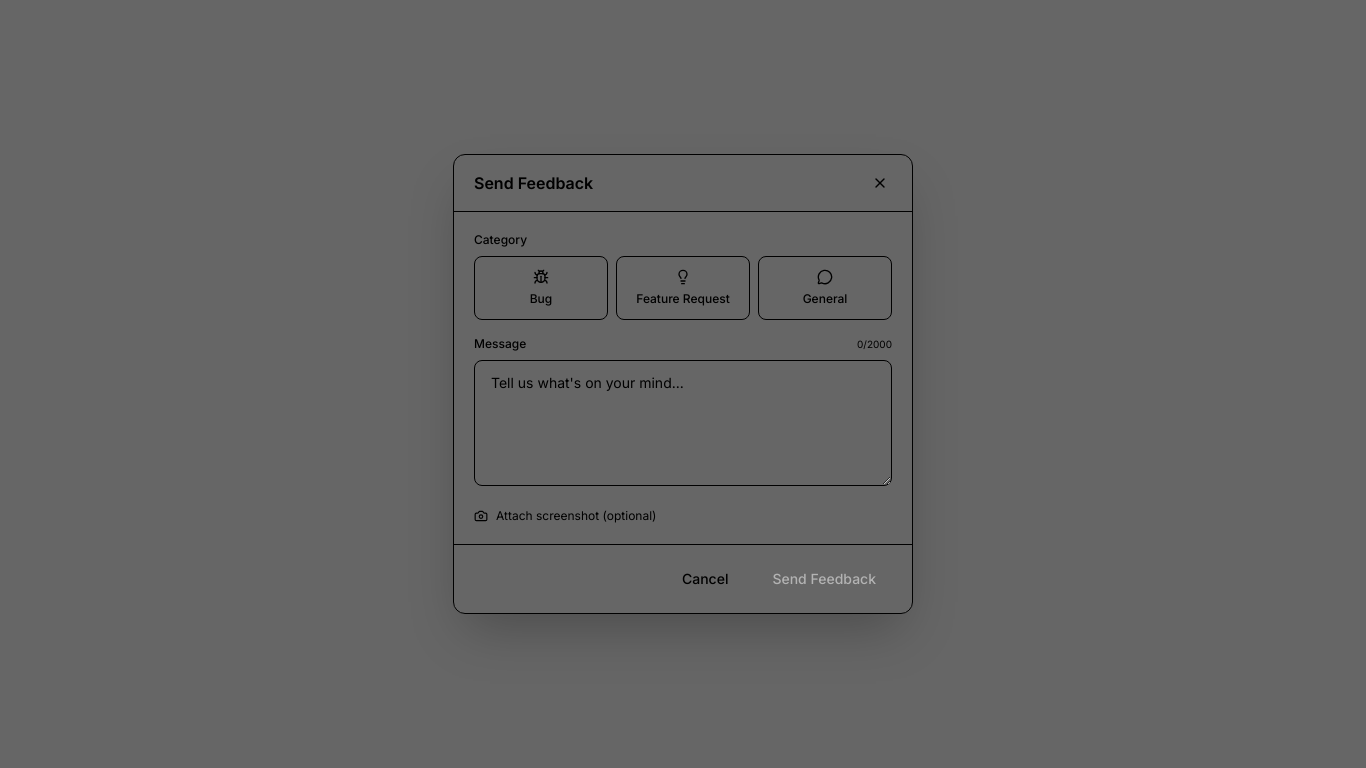
Test: FeedbackModal › enables Send button when message >= 10 chars
The width and height of the screenshot is (1366, 768).
Type "This is a valid feedback message" into the text box with placeholder "Tell us what's on your mind..." at (683, 423), box [474,360,892,486]
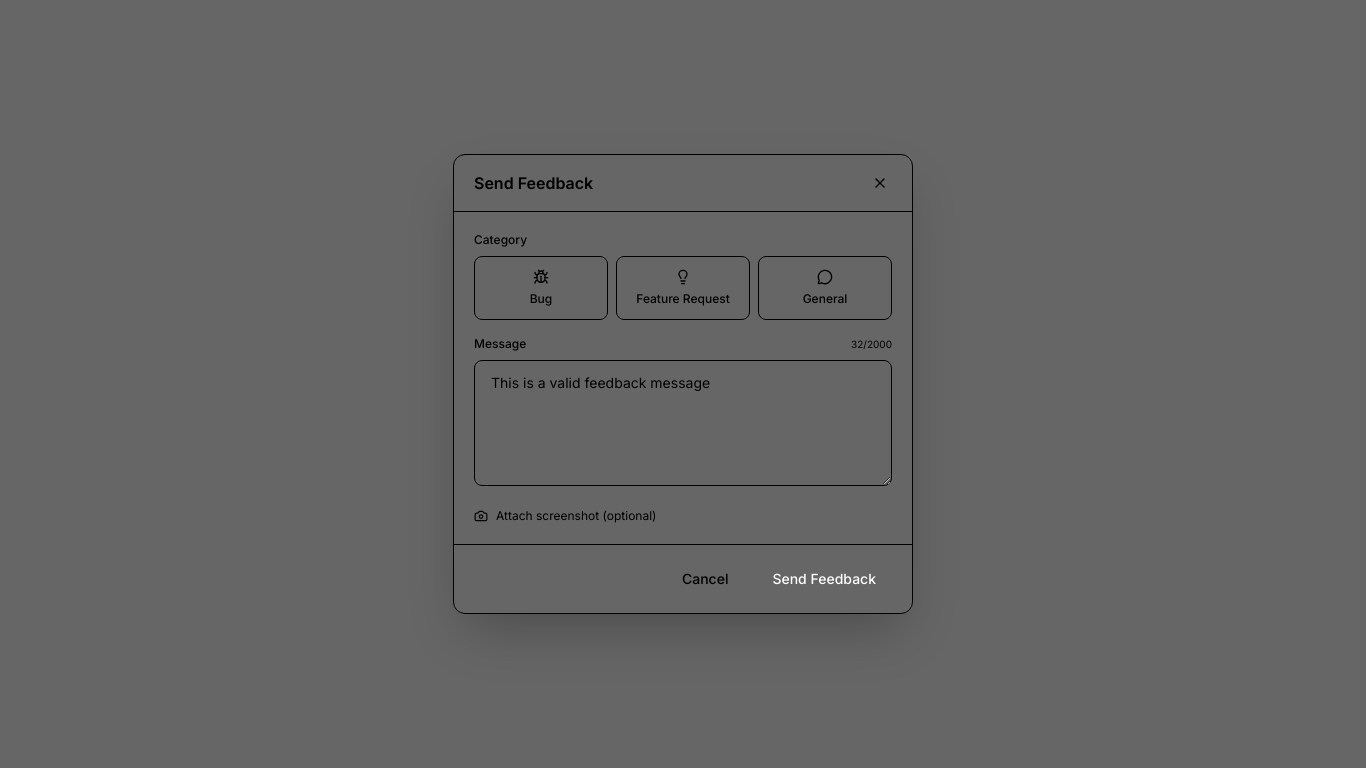
expect the button "Send Feedback" is enabled: met, box [756,561,892,597]
